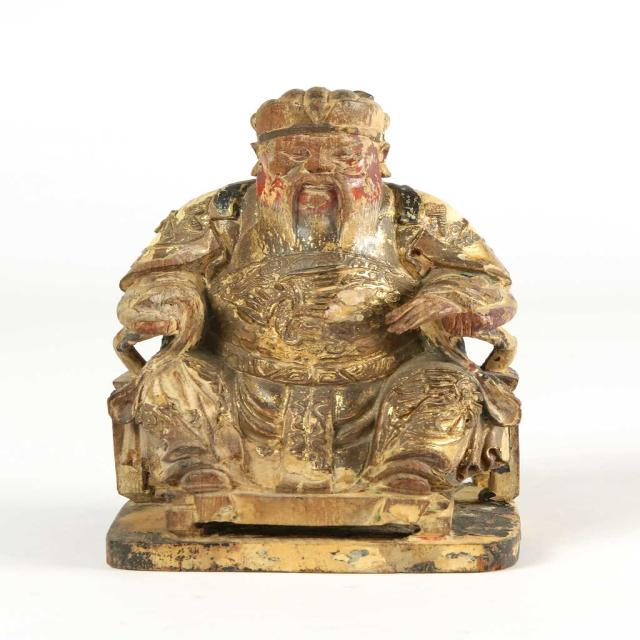Cai shen: (119, 83, 502, 462)
